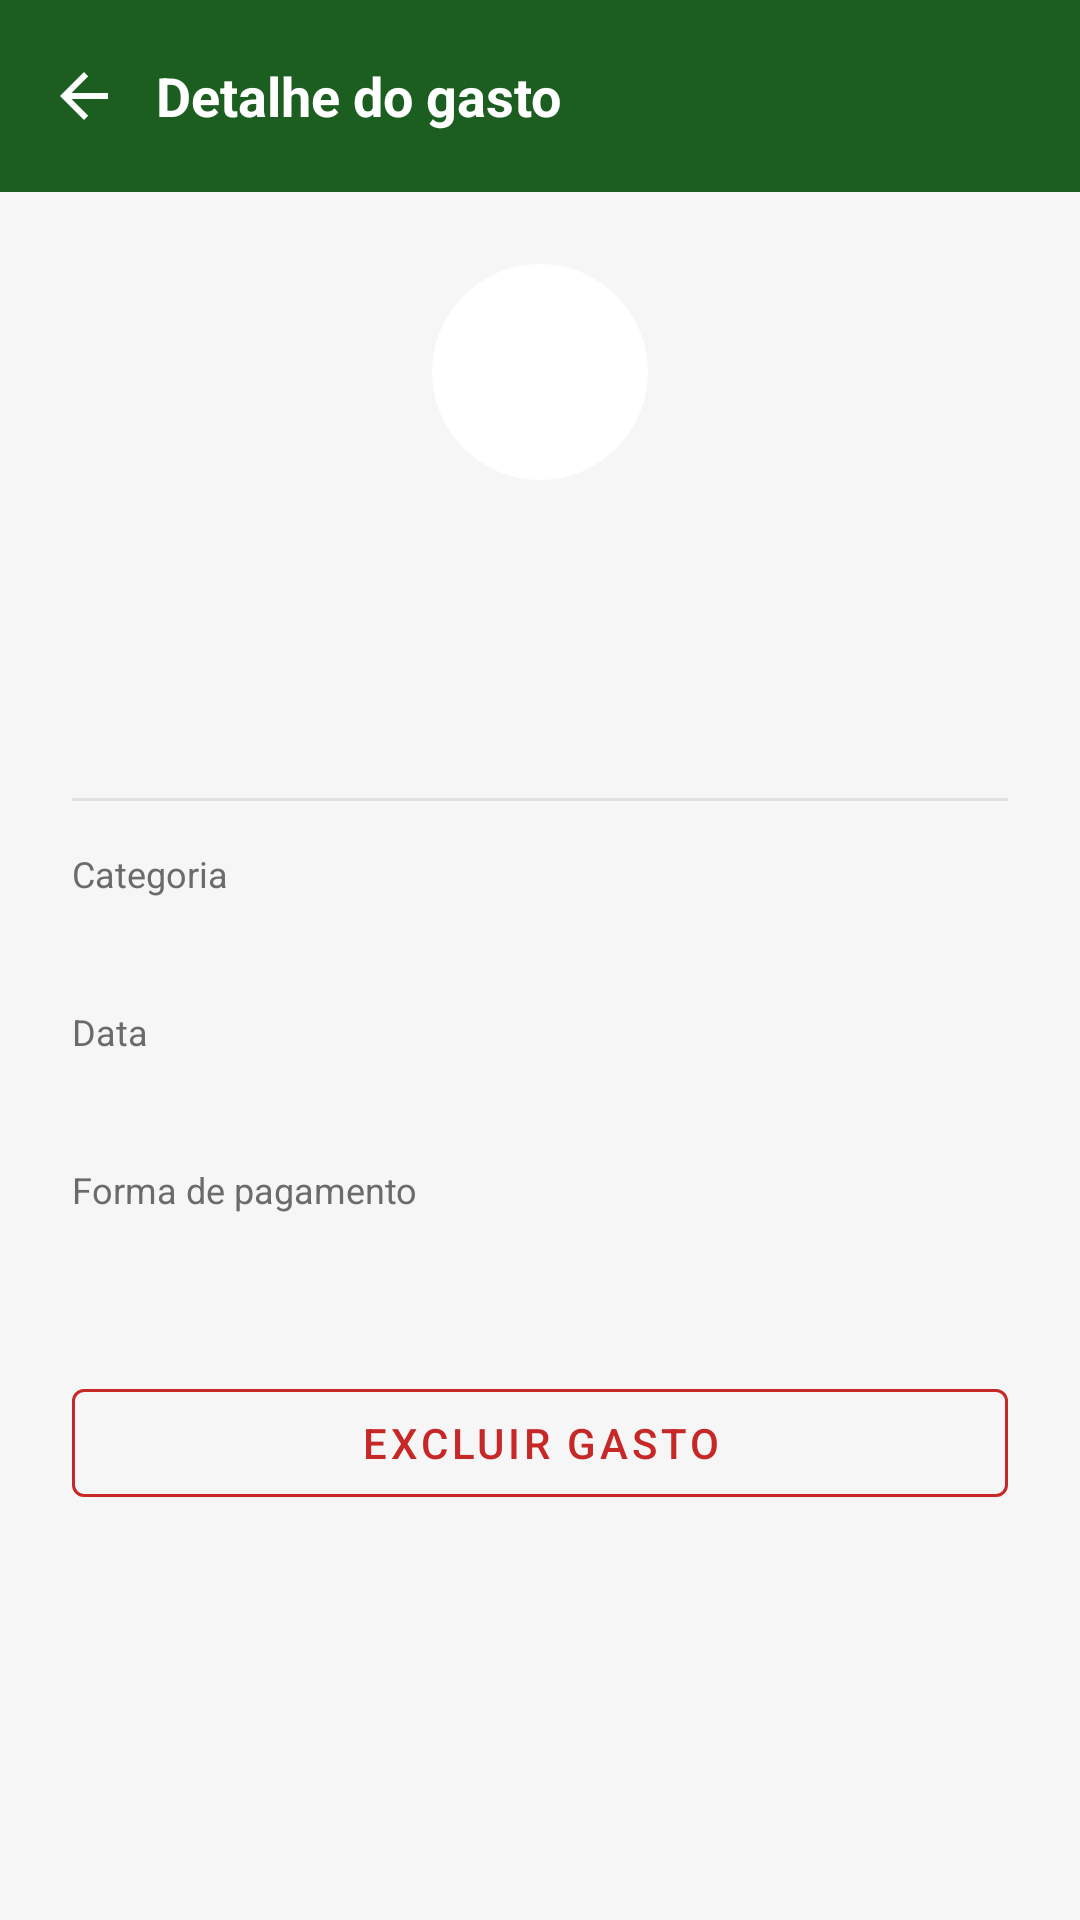

Icons on this 1080x1920 Android screen, each with its box as Rect(x1, y1, x2, y2):
Voltar para a lista: Rect(60, 72, 108, 120)
